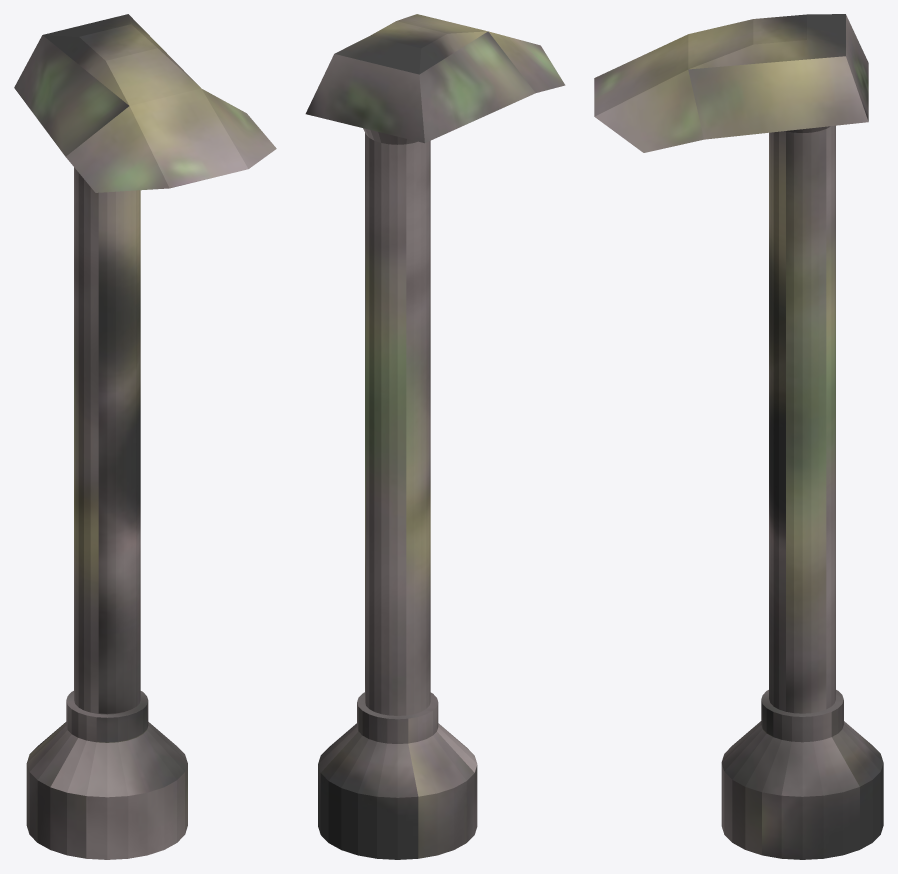
Rendered from lamppost.dae.
3 views of the same model, side by side, from view 1: azimuth 30°, elevation 25°; view 2: azimuth 150°, elevation 25°; view 3: azimuth 270°, elevation 25° (orthographic).
Visible parts, largest first — view 1: Cube; view 2: Cube; view 3: Cube.
Boxes of the visible parts, x1,y1,x2,y2 form: Cube: (14,14,276,859); Cube: (305,14,565,859); Cube: (594,14,883,859).
Bounding box in the file's own units: 0.7562 × 1.04 × 3.16.
1 material, 1 textured.
